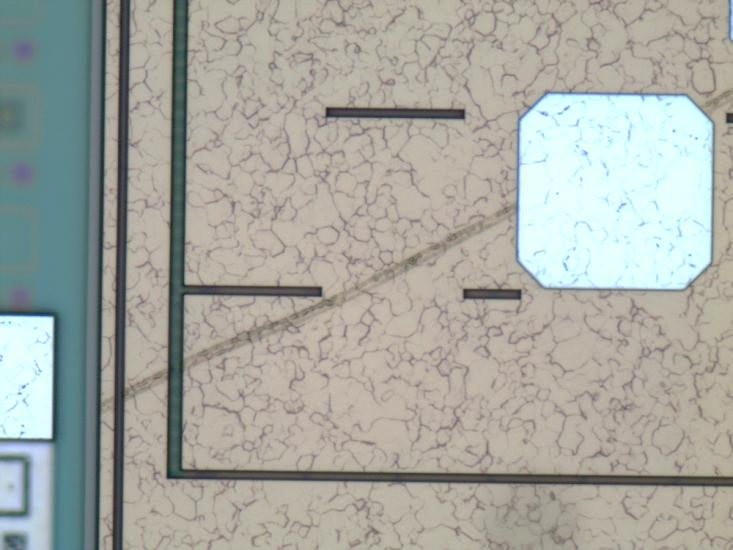SCRATCH: (95, 80, 733, 421)
